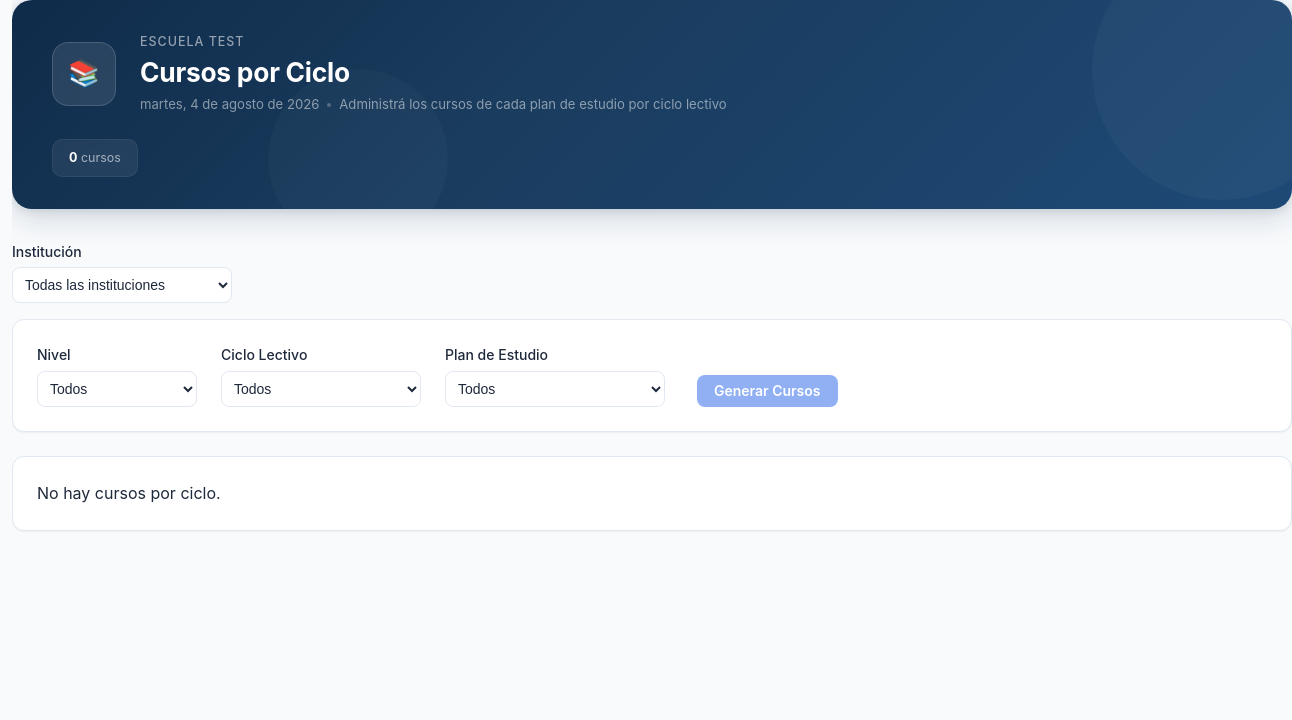
Test: CourseCyclesPage › shows success toast with result counts after generate
Select "Primario" in the dropdown below "Nivel": (117, 389) left=37, top=371, right=197, bottom=407
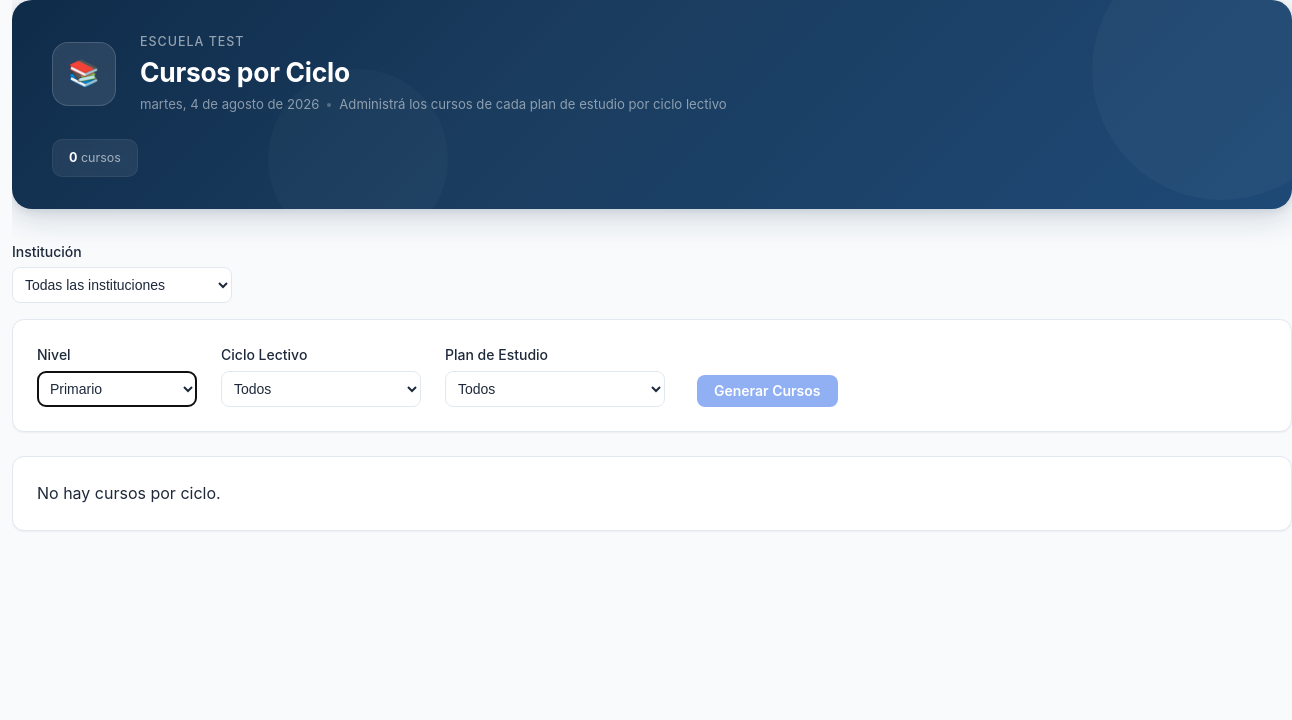
Select "2026" in the 3rd dropdown: (321, 389) left=221, top=371, right=421, bottom=407
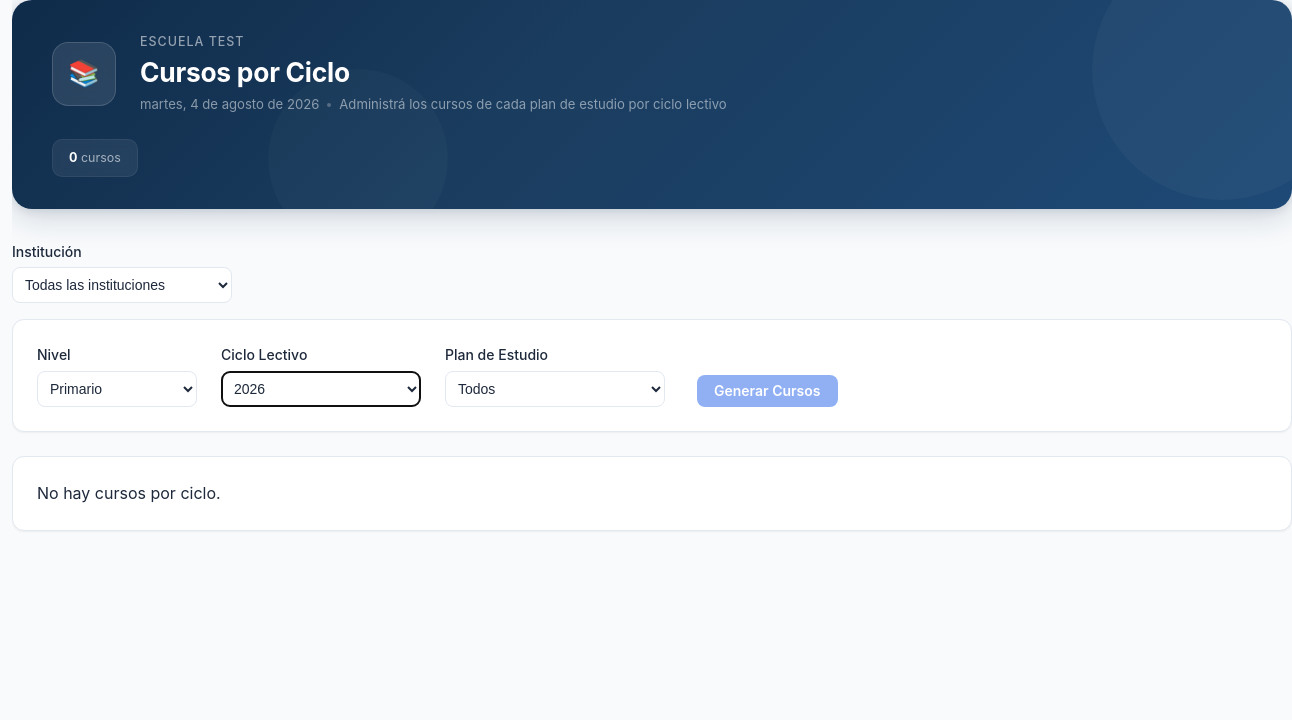
Select "Plan Primario 2026" in the 4th dropdown: (555, 389) left=445, top=371, right=665, bottom=407
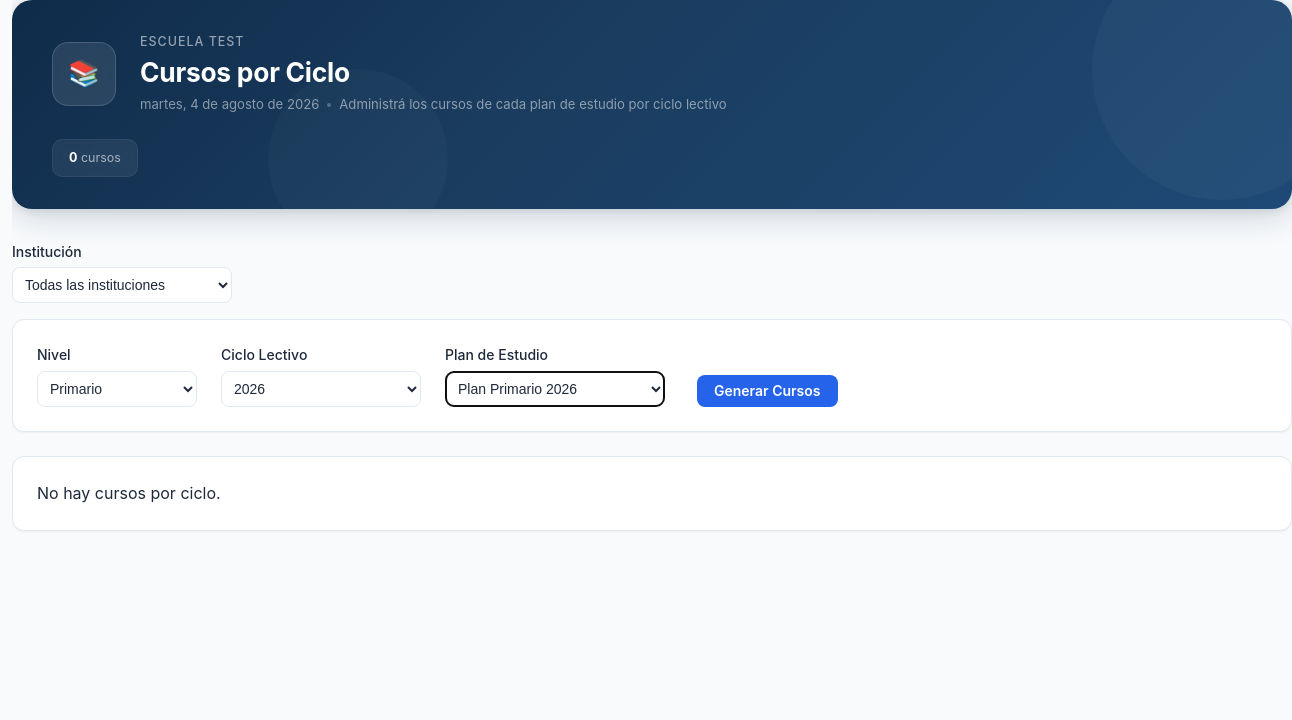
Check: the button with test id "generate-btn" is enabled
Click the button with test id "generate-btn": (767, 391) left=697, top=375, right=838, bottom=407
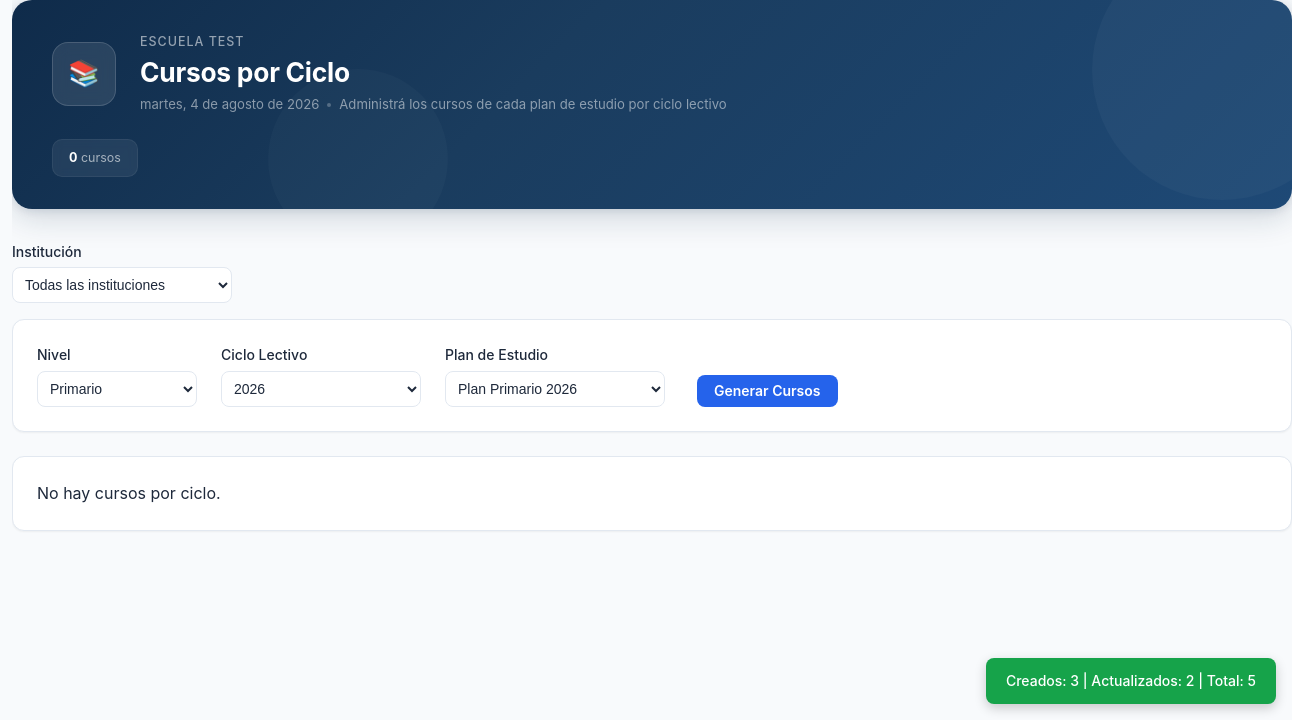
Check: the text "Creados: 3 | Actualizados: 2 | Total: 5" is shown, box left=986, top=658, right=1276, bottom=704
